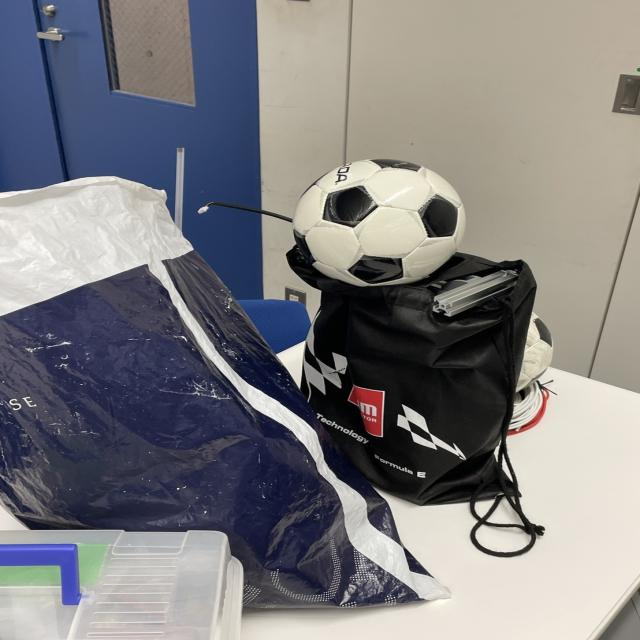ball: (288, 154, 467, 291)
